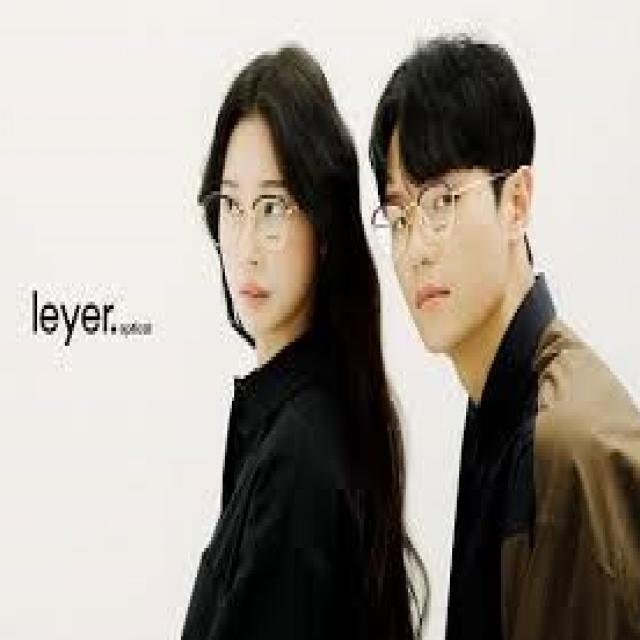Glasses: (362, 165, 508, 268), (190, 176, 309, 254)
